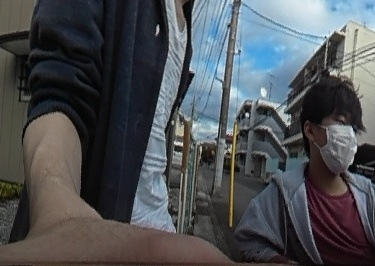person: (241, 79, 375, 266)
